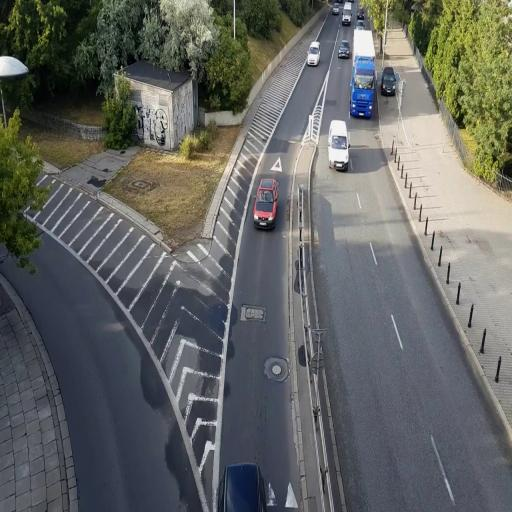vehicle: (350, 28, 376, 118), (252, 177, 279, 231), (328, 120, 350, 172), (380, 66, 400, 97), (307, 40, 321, 67), (338, 40, 350, 60), (342, 2, 352, 26), (331, 2, 343, 16)
